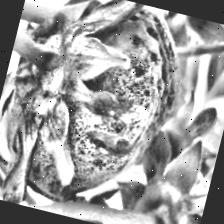Gray Mold: (0, 0, 200, 224)
